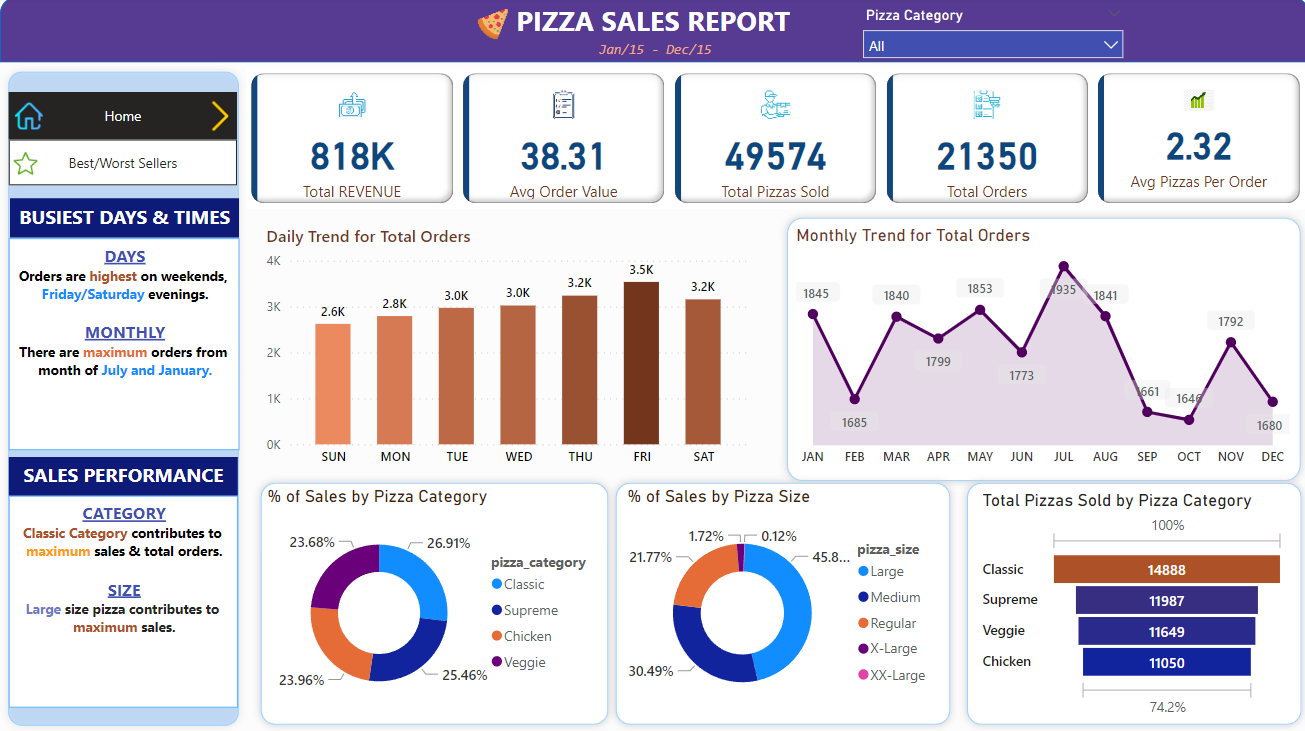

The page's visual inventory and layout, read from the dashboard file:
{"tool":"powerbi","page":{"name":"Home","canvas":[1280,720],"ordinal":0},"visuals":[{"type":"cardVisual","fields":{"Data":["pizza_sales.Total REVENUE","pizza_sales.Avg Order Value","pizza_sales.Total Pizzas Sold","pizza_sales.Total Orders","pizza_sales.Avg Pizzas Per Order"]},"box":[241.2,70,1038.8,137.5],"z":0},{"type":"shape","box":[0,0,1280,63.8],"z":1000},{"type":"textbox","box":[493.8,0,290,47.5],"z":2000},{"type":"textbox","box":[581.2,36.2,133.8,27.5],"z":3000},{"type":"image","box":[456.2,6.2,52.5,41.2],"z":4000},{"type":"shape","box":[247.1,467.1,355.7,252.9],"z":5000},{"type":"columnChart","title":"Daily Trend for Total Orders","fields":{"Category":["pizza_sales.Order Day"],"Y":["pizza_sales.Total Orders"]},"box":[255,222.5,480,245],"z":6000},{"type":"shape","box":[761.2,207.5,518.8,273.8],"z":7000},{"type":"areaChart","title":"Monthly Trend for Total Orders","fields":{"Category":["pizza_sales.Order Month"],"Y":["pizza_sales.Total Orders"]},"box":[773.8,222.5,492.5,245],"z":8000},{"type":"shape","box":[594.3,467.1,342.9,252.9],"z":9000},{"type":"shape","box":[937.1,467.1,342.9,252.9],"z":10000},{"type":"donutChart","title":"% of Sales by Pizza Category","fields":{"Category":["pizza_sales.pizza_category"],"Y":["pizza_sales.Total REVENUE"]},"box":[257.1,478.6,337.1,230],"z":11000},{"type":"donutChart","title":"% of Sales by Pizza Size","fields":{"Category":["pizza_sales.pizza_size"],"Y":["pizza_sales.Total REVENUE"]},"box":[608.6,478.6,314.3,230],"z":12000},{"type":"funnel","title":"Total Pizzas Sold by Pizza Category","fields":{"Category":["pizza_sales.pizza_category"],"Y":["pizza_sales.Total Pizzas Sold"]},"box":[955.7,481.4,305.7,227.1],"z":13000},{"type":"shape","box":[0,64.3,241.4,655.7],"z":14000},{"type":"textbox","box":[10,197.1,224.3,38.6],"z":15000},{"type":"textbox","box":[8.6,235.7,225.7,207.1],"z":16000},{"type":"textbox","box":[8.6,450,224.3,38.6],"z":17000},{"type":"textbox","box":[8.6,487.1,224.3,207.1],"z":18000},{"type":"slicer","fields":{"Values":["pizza_sales.pizza_category"]},"box":[833.7,3.7,275,59.9],"z":19000},{"type":"pageNavigator","box":[8.6,92.9,223.7,46.5],"z":20000},{"type":"pageNavigator","box":[8.6,139.4,223.7,45.2],"z":21000},{"type":"image","box":[195.6,96.6,39.1,39.1],"z":22000},{"type":"image","box":[9.8,97.8,36.7,36.7],"z":23000},{"type":"image","box":[8.6,145.5,33,34.2],"z":24000}]}

Visuals, with their boxes in screenshot pixels (x1, y1, x2, y2), scaled from the page's 1280x720 canvas onto the 1305x731 screenshot:
cardVisual - pizza_sales.Total REVENUE x pizza_sales.Avg Order Value: pyautogui.locateOnScreen(246, 71, 1304, 211)
shape: pyautogui.locateOnScreen(0, 0, 1304, 65)
textbox: pyautogui.locateOnScreen(503, 0, 799, 48)
textbox: pyautogui.locateOnScreen(593, 37, 729, 65)
image: pyautogui.locateOnScreen(465, 6, 519, 48)
shape: pyautogui.locateOnScreen(252, 474, 615, 730)
"Daily Trend for Total Orders" columnChart: pyautogui.locateOnScreen(260, 226, 749, 475)
shape: pyautogui.locateOnScreen(776, 211, 1304, 489)
"Monthly Trend for Total Orders" areaChart: pyautogui.locateOnScreen(789, 226, 1291, 475)
shape: pyautogui.locateOnScreen(606, 474, 956, 730)
shape: pyautogui.locateOnScreen(955, 474, 1304, 730)
"% of Sales by Pizza Category" donutChart: pyautogui.locateOnScreen(262, 486, 606, 719)
"% of Sales by Pizza Size" donutChart: pyautogui.locateOnScreen(620, 486, 941, 719)
"Total Pizzas Sold by Pizza Category" funnel: pyautogui.locateOnScreen(974, 489, 1286, 719)
shape: pyautogui.locateOnScreen(0, 65, 246, 730)
textbox: pyautogui.locateOnScreen(10, 200, 239, 239)
textbox: pyautogui.locateOnScreen(9, 239, 239, 450)
textbox: pyautogui.locateOnScreen(9, 457, 237, 496)
textbox: pyautogui.locateOnScreen(9, 495, 237, 705)
slicer - pizza_sales.pizza_category: pyautogui.locateOnScreen(850, 4, 1130, 65)
pageNavigator: pyautogui.locateOnScreen(9, 94, 237, 142)
pageNavigator: pyautogui.locateOnScreen(9, 142, 237, 187)
image: pyautogui.locateOnScreen(199, 98, 239, 138)
image: pyautogui.locateOnScreen(10, 99, 47, 137)
image: pyautogui.locateOnScreen(9, 148, 42, 182)
